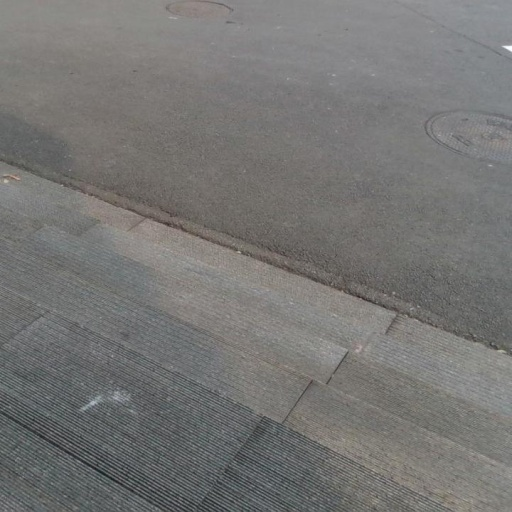Stairs: (0, 162, 512, 512)
